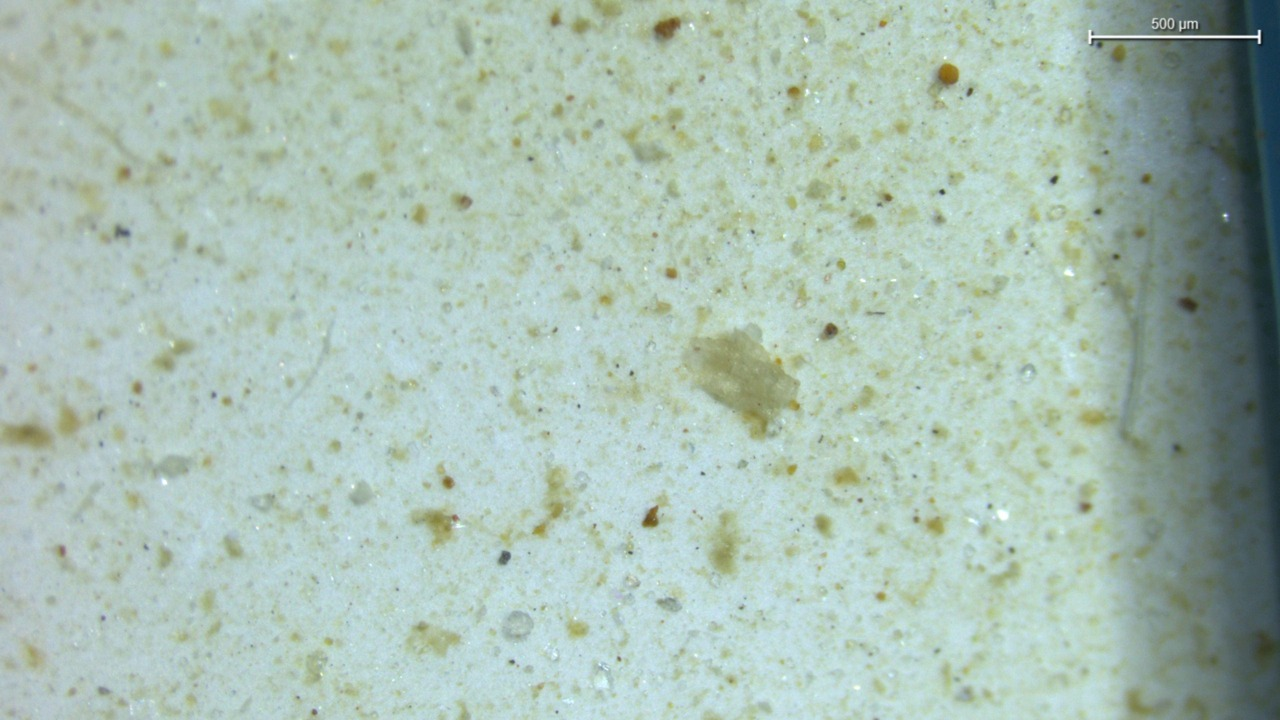microplastic_fragment: (683, 325, 798, 432), (501, 610, 534, 640)
